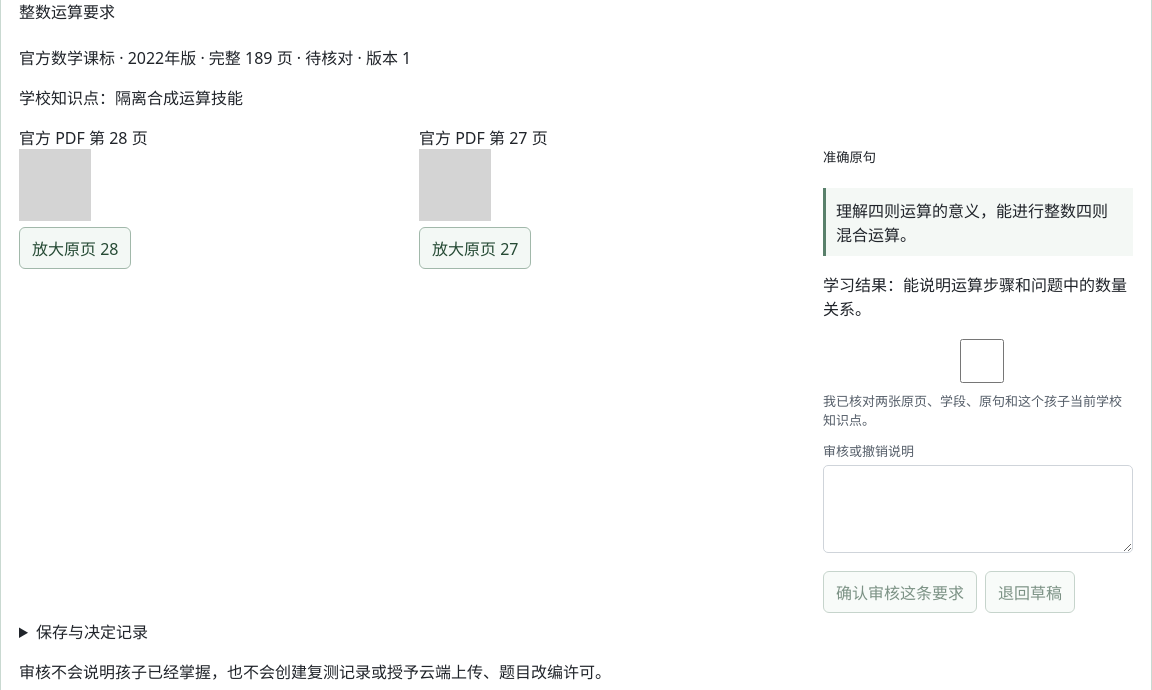
Test case: ignores a late approval response after privacy pause and retains the original pending action
(page scrolled)
Click the checkbox: (982, 361) [827, 339, 1137, 383]
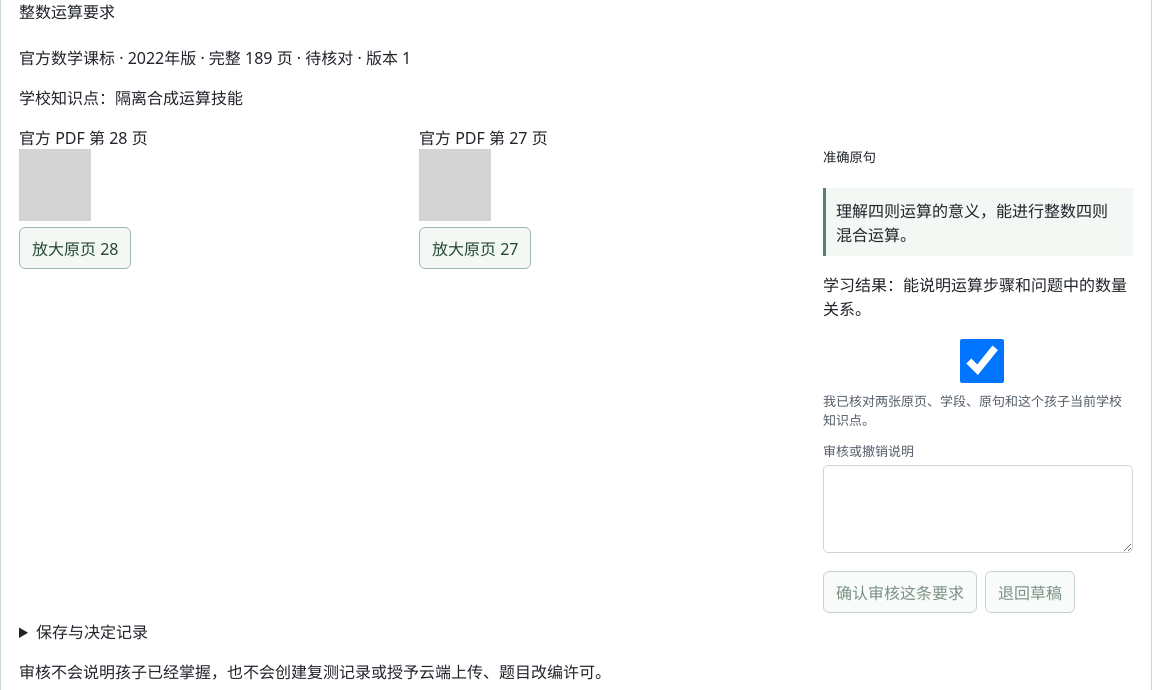
In the text box labelled "审核或撤销说明": (978, 509) [823, 465, 1133, 553], type "明确旧文档审核说明。"
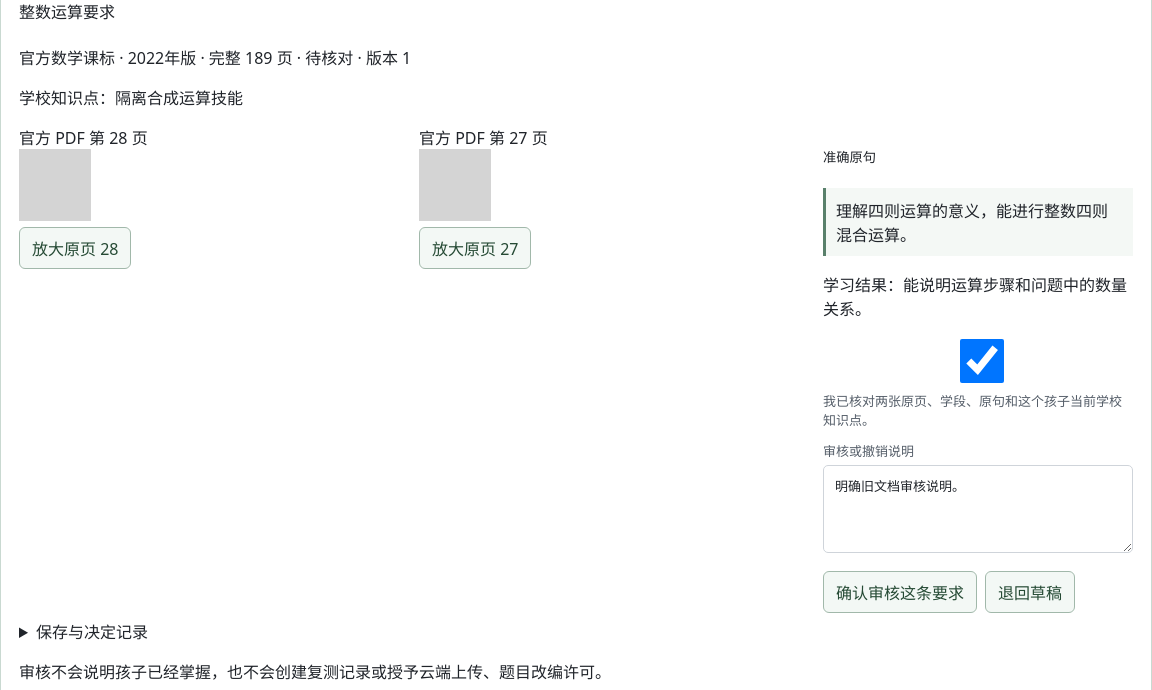
Click the button "确认审核这条要求": (900, 592) [823, 571, 977, 613]
(page scrolled)
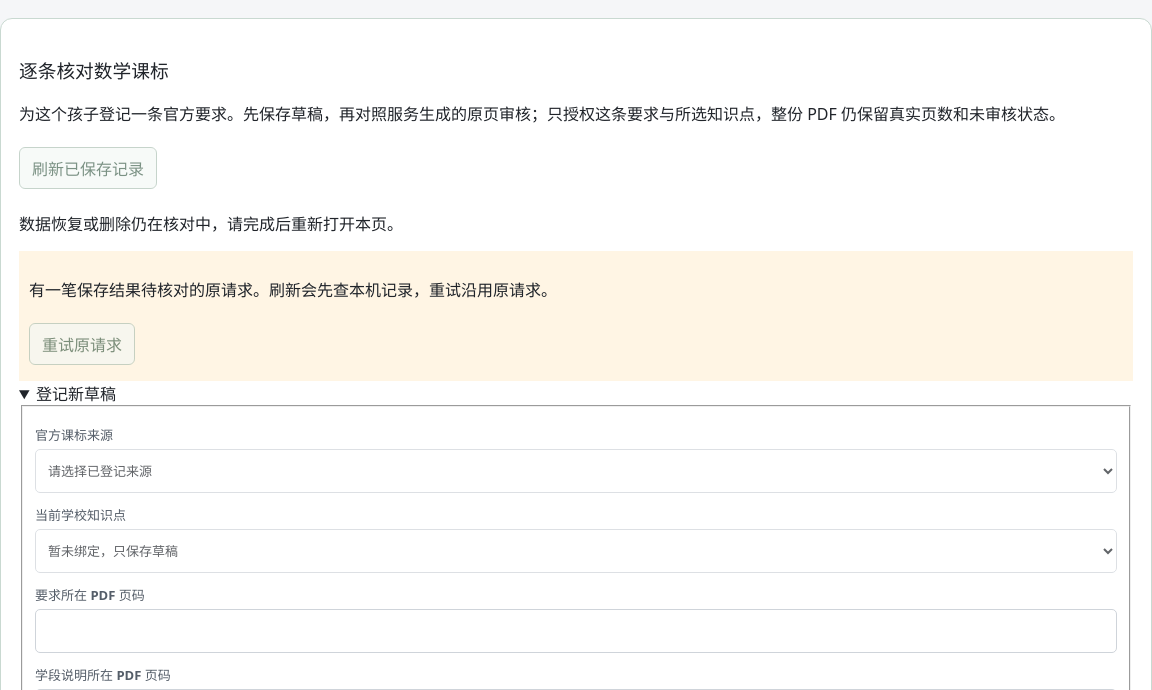
Check: the text "数据恢复或删除仍在核对中，请完成后重新打开本页。" is shown, box [19, 213, 403, 235]
Check: the field labelled "课标原页与审核" is gone
